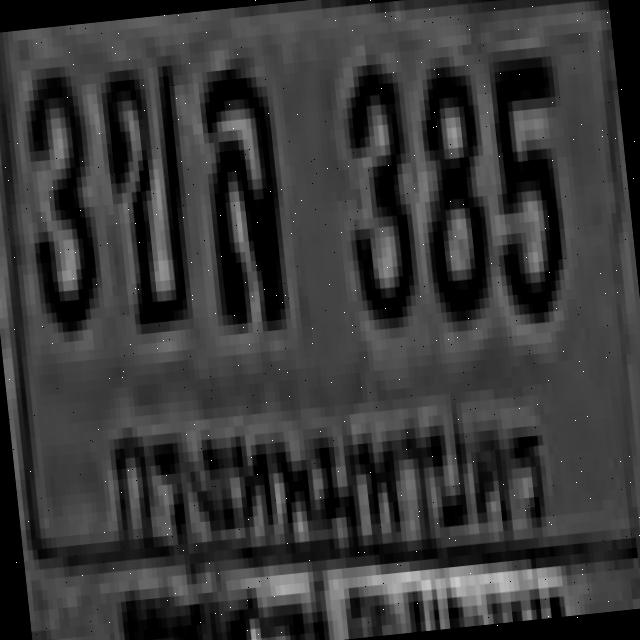11KhorKhai: (92, 44, 198, 326)
3: (10, 55, 100, 324), (330, 52, 420, 321)
45LorLing: (190, 56, 284, 316)
5: (477, 46, 572, 316)
8: (405, 54, 489, 314)
Bangkok: (93, 354, 558, 608)
